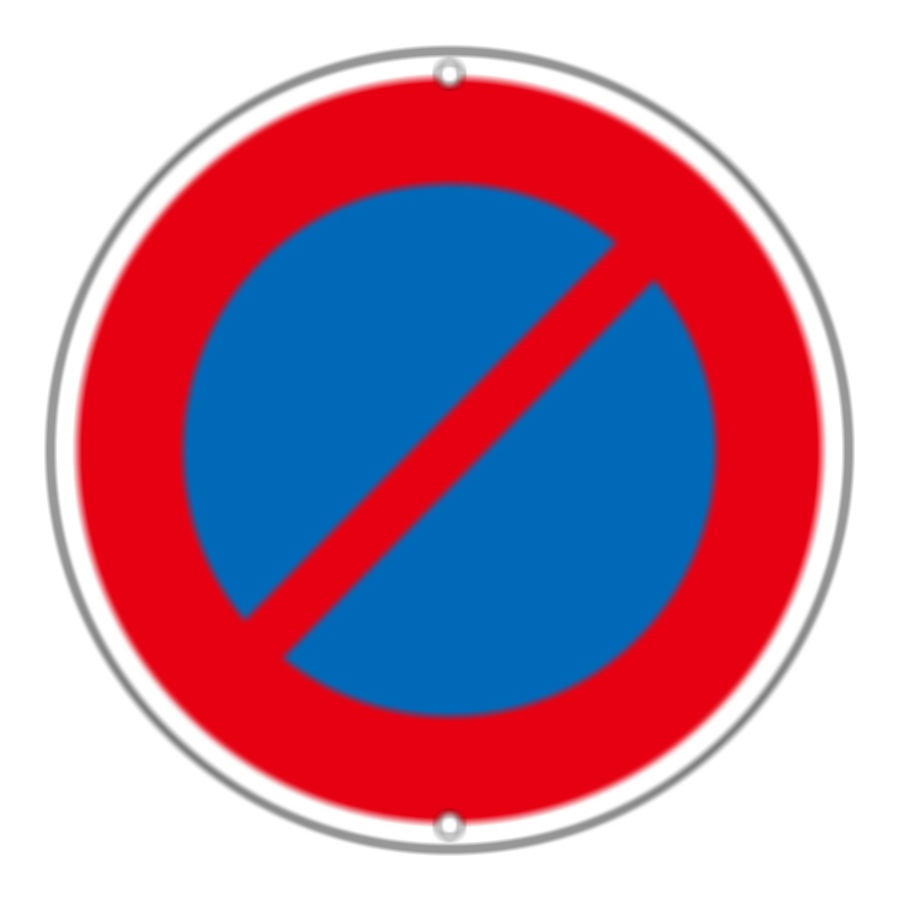Prohibition_sign: (17, 17, 890, 867)
